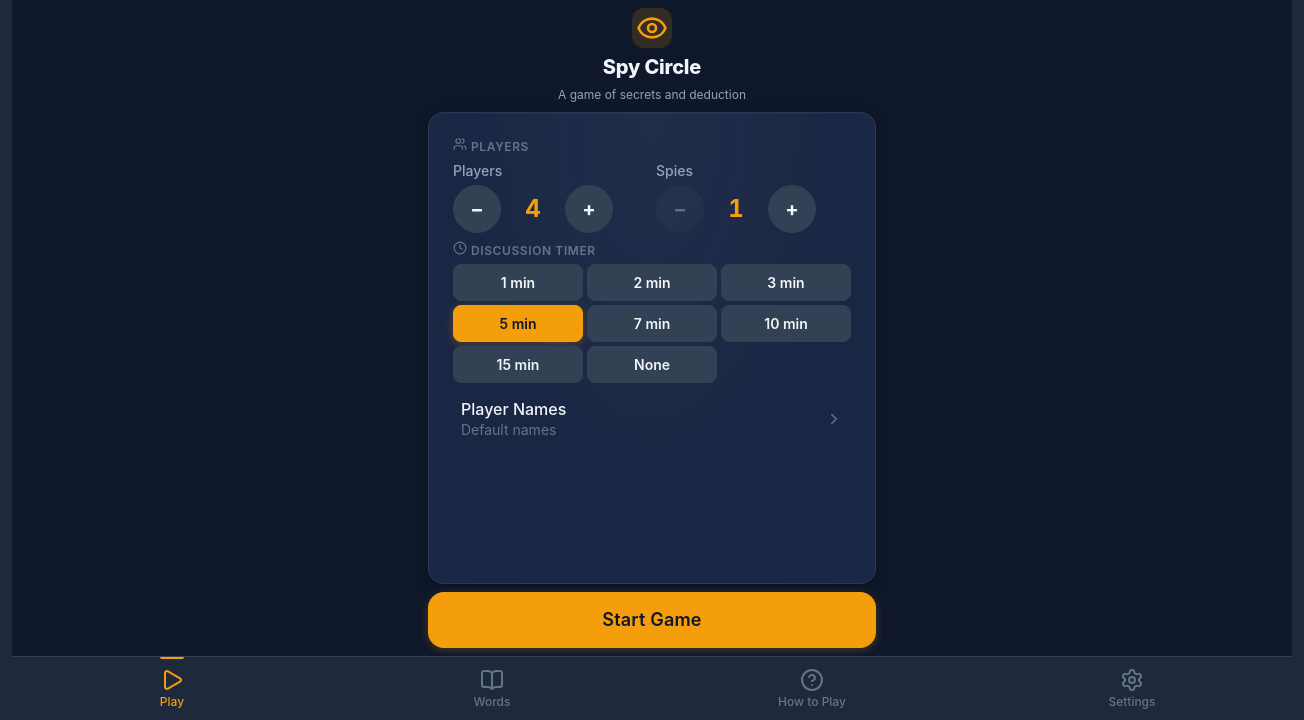
Test: App › uses one history entry for sub-screens and restores Play on back
Click the button "Words": (492, 688) [332,657,652,719]
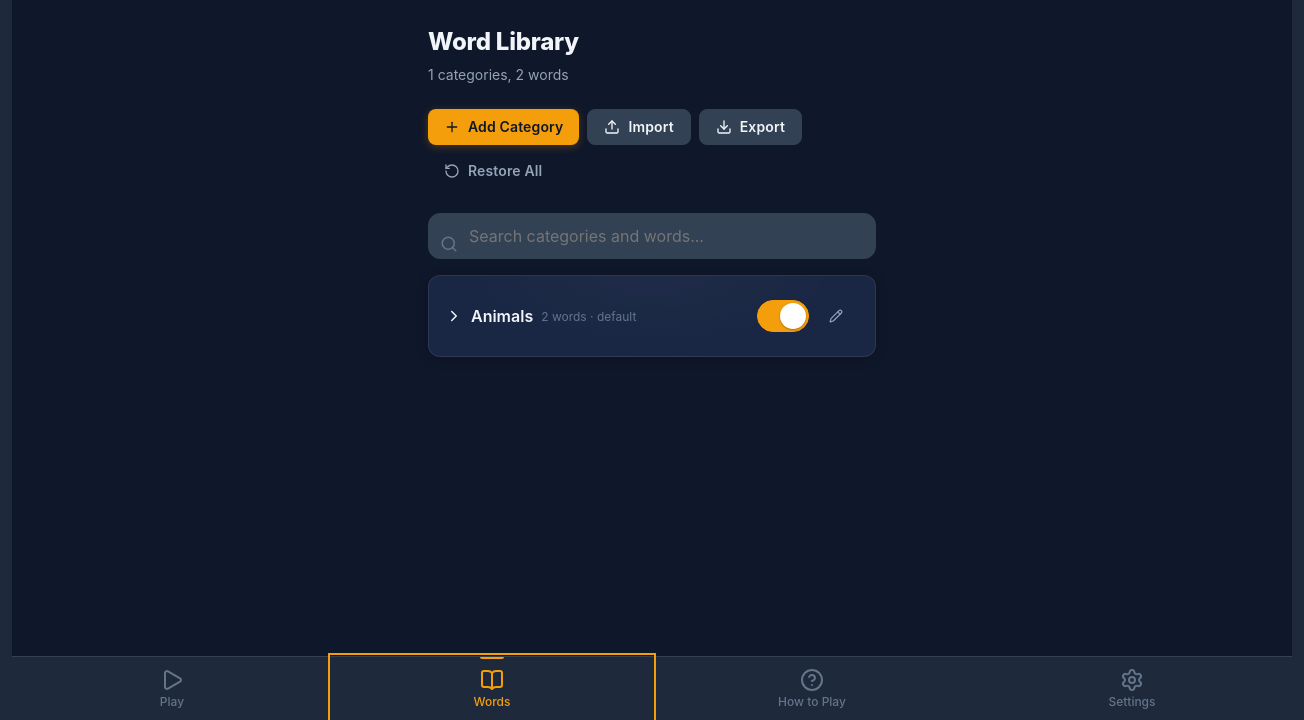
Click the button "How to Play": (812, 688) [652,657,972,719]
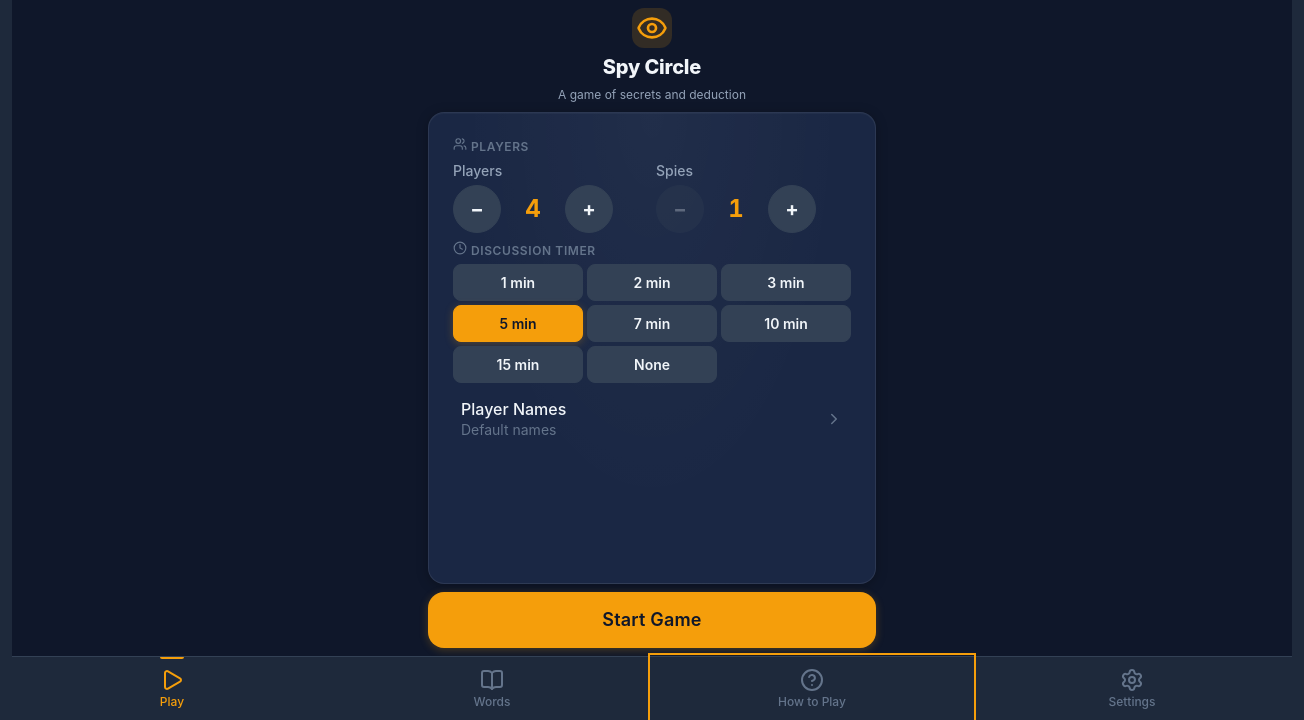
Now the button "Start Game" is shown, box [428,592,876,648]
